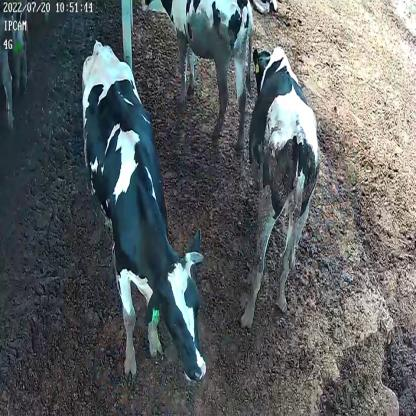cow: (76, 39, 207, 391), (246, 46, 323, 332), (142, 0, 254, 150)
